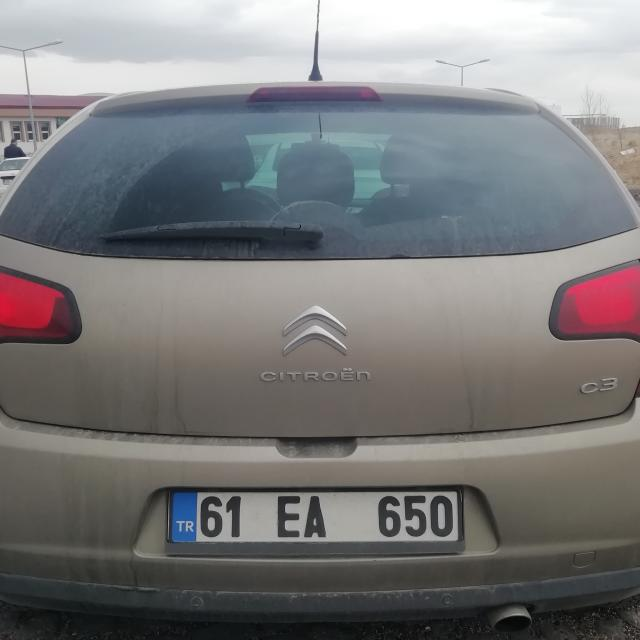license_plate: (170, 490, 460, 545)
